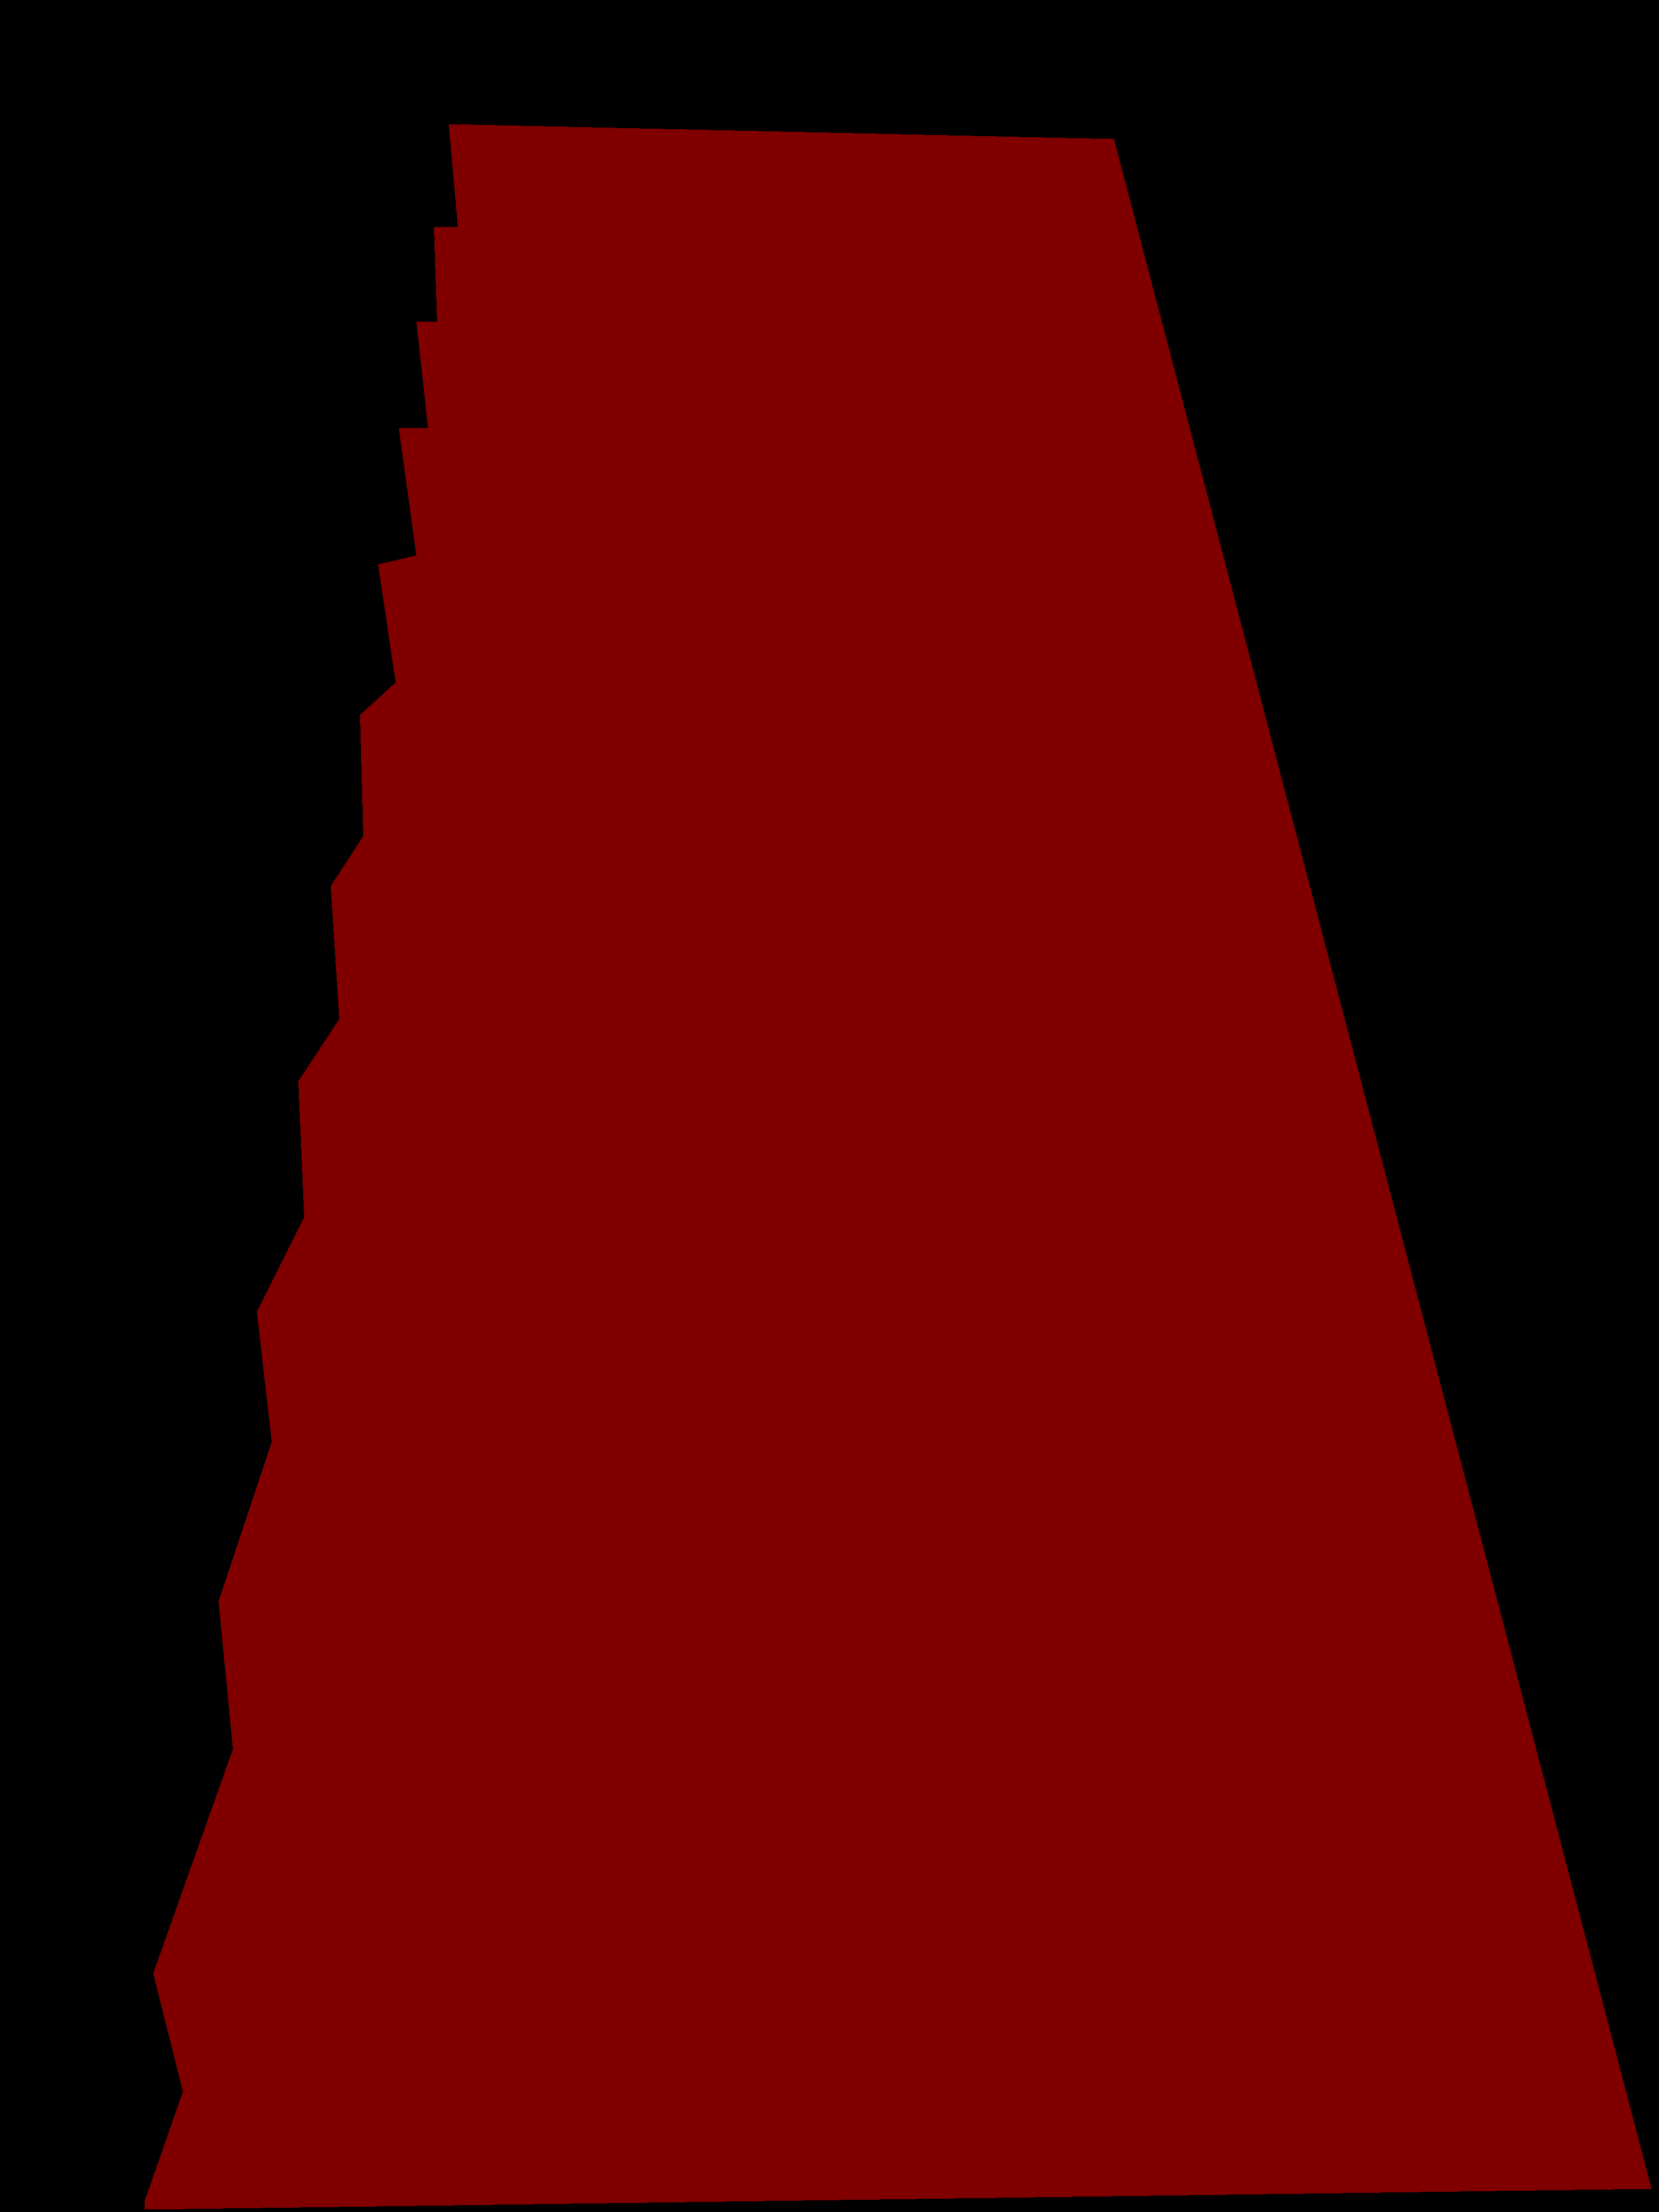stair: (145, 124, 1650, 2209)
